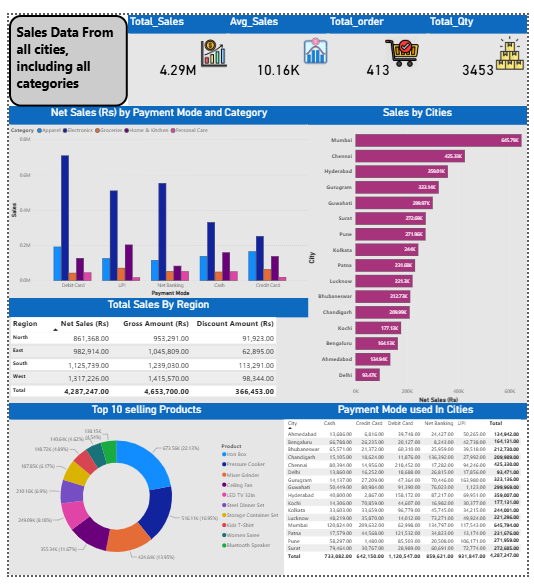

The dashboard page shown, as its layout file describes it:
{"tool":"powerbi","page":{"name":"Page 4","canvas":[1296,1400],"ordinal":3},"visuals":[{"type":"clusteredColumnChart","title":"Net Sales (Rs) by Payment Mode and Category","fields":{"Series":["Sales_2025.Category"],"Category":["Sales_2025.Payment Mode"],"Y":["Sum(Sales_2025.Net Sales (Rs))"]},"box":[0,228,750,480],"z":0},{"type":"barChart","title":"Sales by Cities","fields":{"Category":["Sales_2025.City"],"Y":["Sum(Sales_2025.Net Sales (Rs))"]},"box":[747.5,227.5,547.5,742.5],"z":1000},{"type":"pivotTable","title":"Total Sales By Region","fields":{"Rows":["Sales_2025.Region"],"Values":["Sum(Sales_2025.Net Sales (Rs))","Sum(Sales_2025.Gross Amount (Rs))","Sum(Sales_2025.Discount Amount (Rs))"]},"box":[0,707.5,747.5,262.5],"z":2000},{"type":"donutChart","title":" Top 10 selling Products ","fields":{"Category":["Sales_2025.Product"],"Y":["Sum(Sales_2025.Net Sales (Rs))"]},"box":[0,970,687.5,430],"z":3000},{"type":"pivotTable","title":"Payment Mode used In Cities","fields":{"Rows":["Sales_2025.City"],"Columns":["Sales_2025.Payment Mode"],"Values":["Sum(Sales_2025.Net Sales (Rs))"]},"box":[687.1,970,608.6,430],"z":4000},{"type":"card","title":"Total_Qty","fields":{"Values":["Sum(Sales_2025.Qty Sold)"]},"box":[1046.7,0,250,227.1],"z":5000},{"type":"card","title":"Total_order","fields":{"Values":["Count(Sales_2025.orderId)"]},"box":[797,0,250,227],"z":6000},{"type":"image","box":[936.2,46.2,90,95],"z":7000},{"type":"image","box":[1207.5,46.2,88.8,95],"z":8000},{"type":"card","title":"Total_Sales","fields":{"Values":["Sum(Sales_2025.Net Sales (Rs))"]},"box":[297,0,250,227],"z":9000},{"type":"card","title":"Avg_Sales","fields":{"Values":["Avg(Sales_2025.Net Sales (Rs))"]},"box":[547,0,250,227],"z":10000},{"type":"image","box":[476.7,46.7,70,95],"z":11000},{"type":"image","box":[733.3,43.3,70,96.7],"z":12000},{"type":"textbox","box":[0,0,297.1,228.6],"z":13000}]}

Visuals, with their boxes in screenshot pixels (x1, y1, x2, y2), scaled from the page's 1296x1400 canvas onto the 534x585 screenshot:
"Net Sales (Rs) by Payment Mode and Category" clusteredColumnChart: [x1=0, y1=95, x2=309, y2=296]
"Sales by Cities" barChart: [x1=308, y1=95, x2=533, y2=405]
"Total Sales By Region" pivotTable: [x1=0, y1=296, x2=308, y2=405]
" Top 10 selling Products " donutChart: [x1=0, y1=405, x2=283, y2=584]
"Payment Mode used In Cities" pivotTable: [x1=283, y1=405, x2=533, y2=584]
"Total_Qty" card: [x1=431, y1=0, x2=533, y2=95]
"Total_order" card: [x1=328, y1=0, x2=431, y2=95]
image: [x1=386, y1=19, x2=423, y2=59]
image: [x1=498, y1=19, x2=533, y2=59]
"Total_Sales" card: [x1=122, y1=0, x2=225, y2=95]
"Avg_Sales" card: [x1=225, y1=0, x2=328, y2=95]
image: [x1=196, y1=20, x2=225, y2=59]
image: [x1=302, y1=18, x2=331, y2=58]
textbox: [x1=0, y1=0, x2=122, y2=96]
